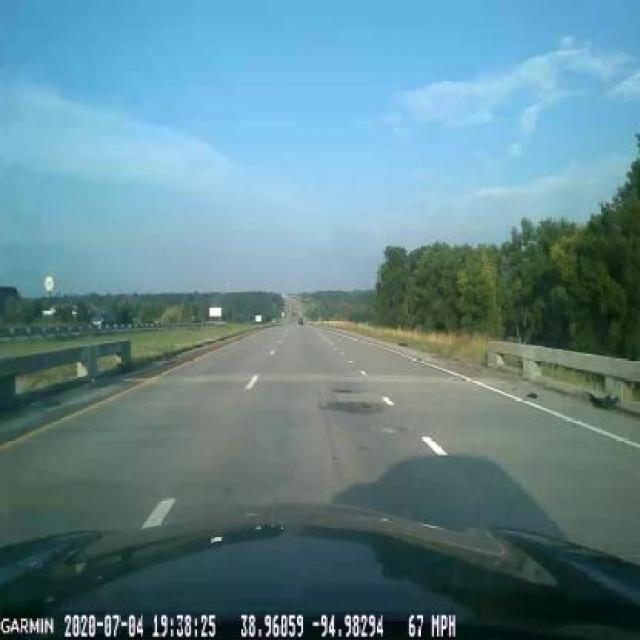Pothole: (314, 394, 386, 424)
